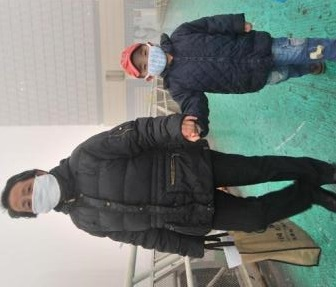person: (3, 114, 336, 257), (118, 12, 335, 130)
